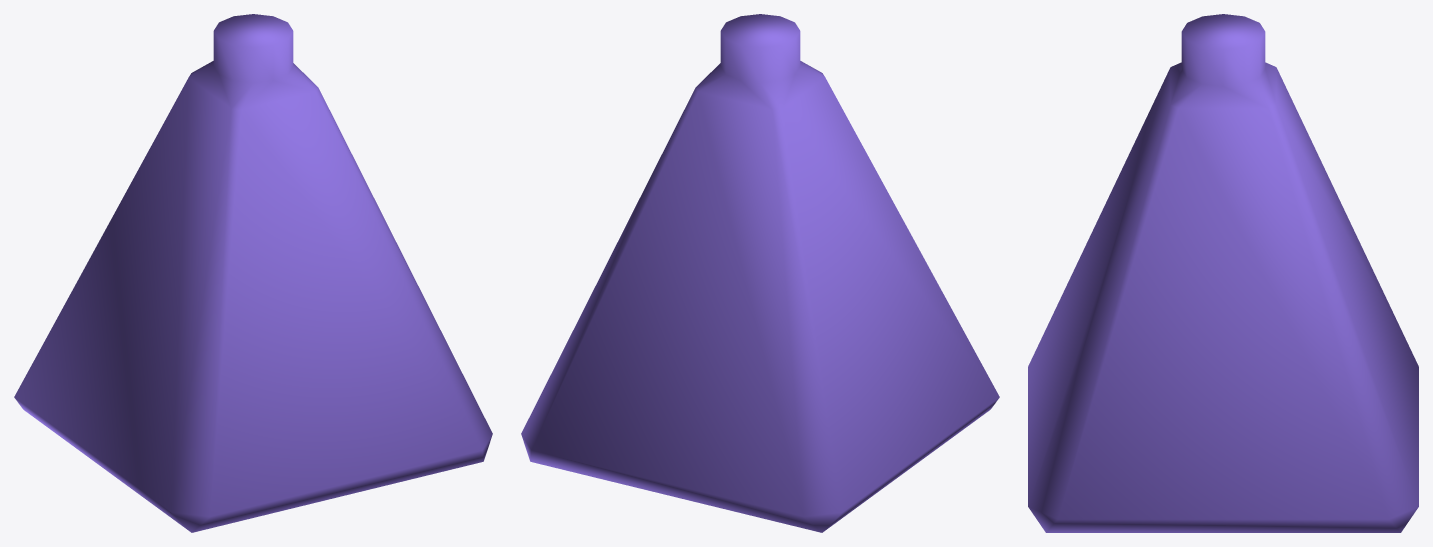
File: bottle3_liquid.fbx
3 views of the same model, side by side, from view 1: azimuth 30°, elevation 25°; view 2: azimuth 150°, elevation 25°; view 3: azimuth 270°, elevation 25° (orthographic). The views are drawn at different scales.
Parts seen in each view (by area): view 1: bottle3.liquid; view 2: bottle3.liquid; view 3: bottle3.liquid.
Boxes of the visible parts, x1,y1,x2,y2 form: bottle3.liquid: (14, 14, 492, 532); bottle3.liquid: (521, 14, 999, 532); bottle3.liquid: (1028, 14, 1418, 532).
Size of the model in its own units: 7.97 by 9.59 by 7.97.
